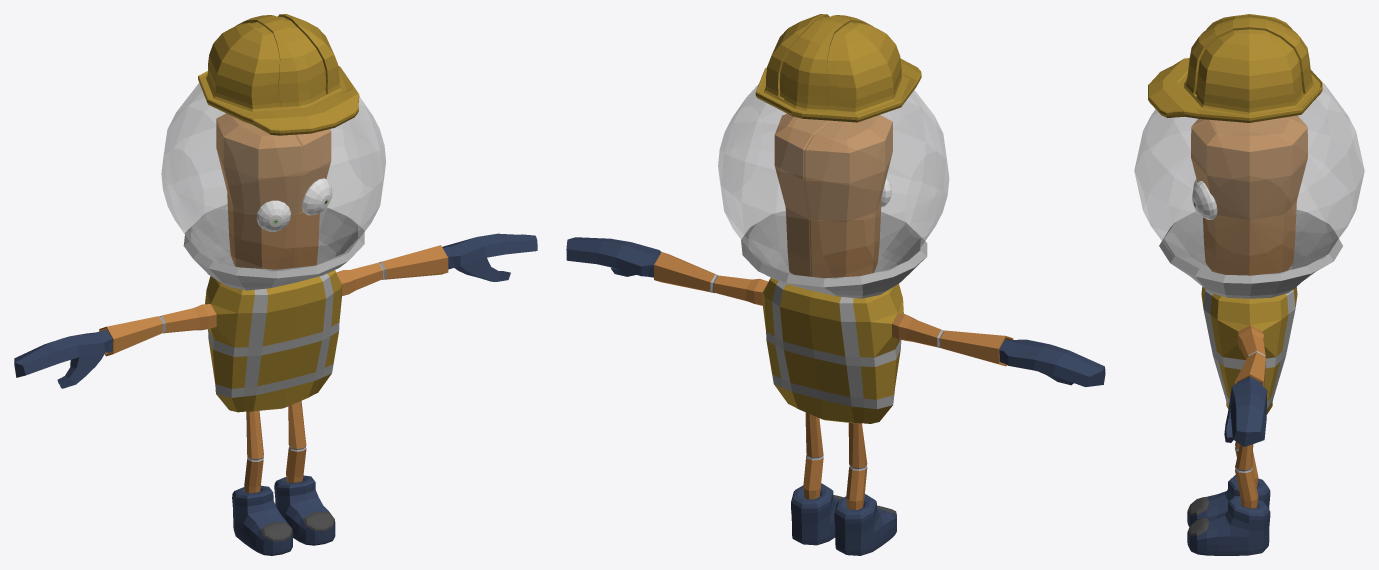
File: Perso.fbx
3 views of the same model, side by side, from view 1: azimuth 30°, elevation 25°; view 2: azimuth 150°, elevation 25°; view 3: azimuth 270°, elevation 25° (orthographic). The views are drawn at different scales.
Parts seen in each view (by area): view 1: Cube.012; view 2: Cube.012; view 3: Cube.012.
Part boxes in pixels (left/top/right/bottom): Cube.012: left=14, top=14, right=537, bottom=555; Cube.012: left=566, top=14, right=1105, bottom=555; Cube.012: left=1134, top=14, right=1364, bottom=555.
Size of the model in its own units: 812 by 755 by 306.
